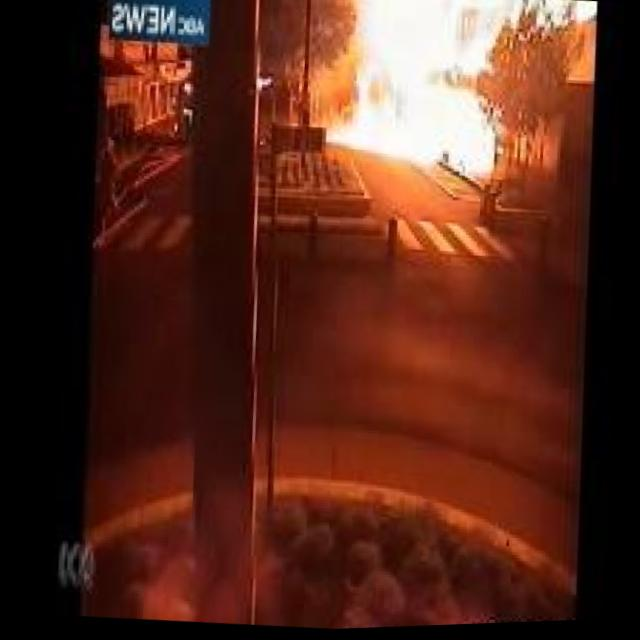fire: (309, 0, 535, 187)
